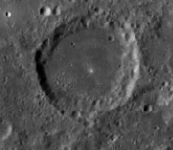crater: (23, 8, 144, 126)
